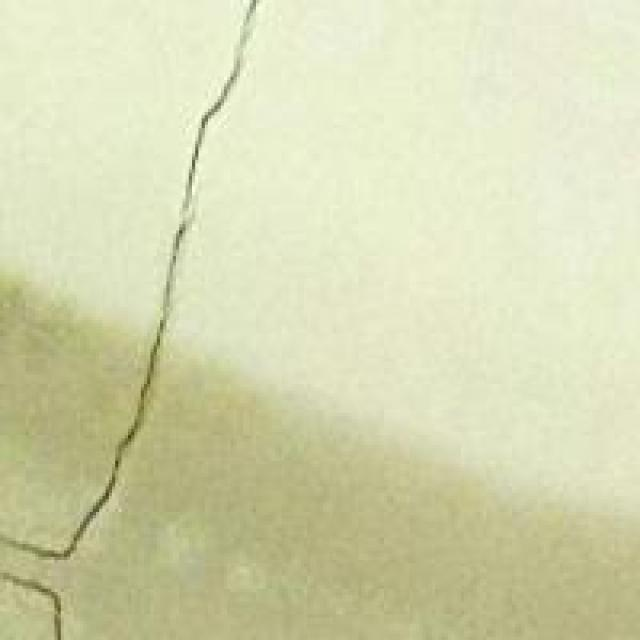Crack: (58, 0, 362, 637)
